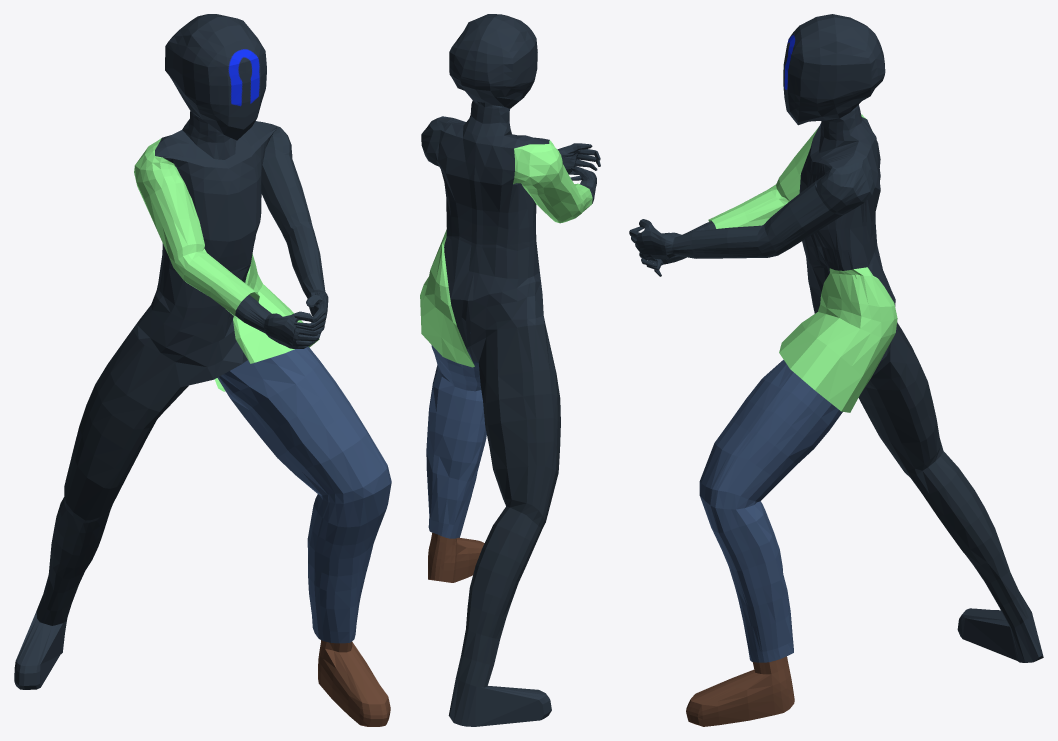
Rendered from Mar_WL_000012.obj.
The picture shows the model from 3 angles, left to right: view 1: azimuth 30°, elevation 25°; view 2: azimuth 150°, elevation 25°; view 3: azimuth 270°, elevation 25°; orthographic projection. The views are drawn at different scales.
Visible parts, largest first — view 1: Cube.000_Cube.001; view 2: Cube.000_Cube.001; view 3: Cube.000_Cube.001.
Boxes of the visible parts, left/top/right/bottom form: Cube.000_Cube.001: left=14, top=14, right=391, bottom=726; Cube.000_Cube.001: left=420, top=14, right=600, bottom=726; Cube.000_Cube.001: left=629, top=14, right=1043, bottom=726.
Size of the model in its own units: 1.38 by 3.72 by 2.07.
